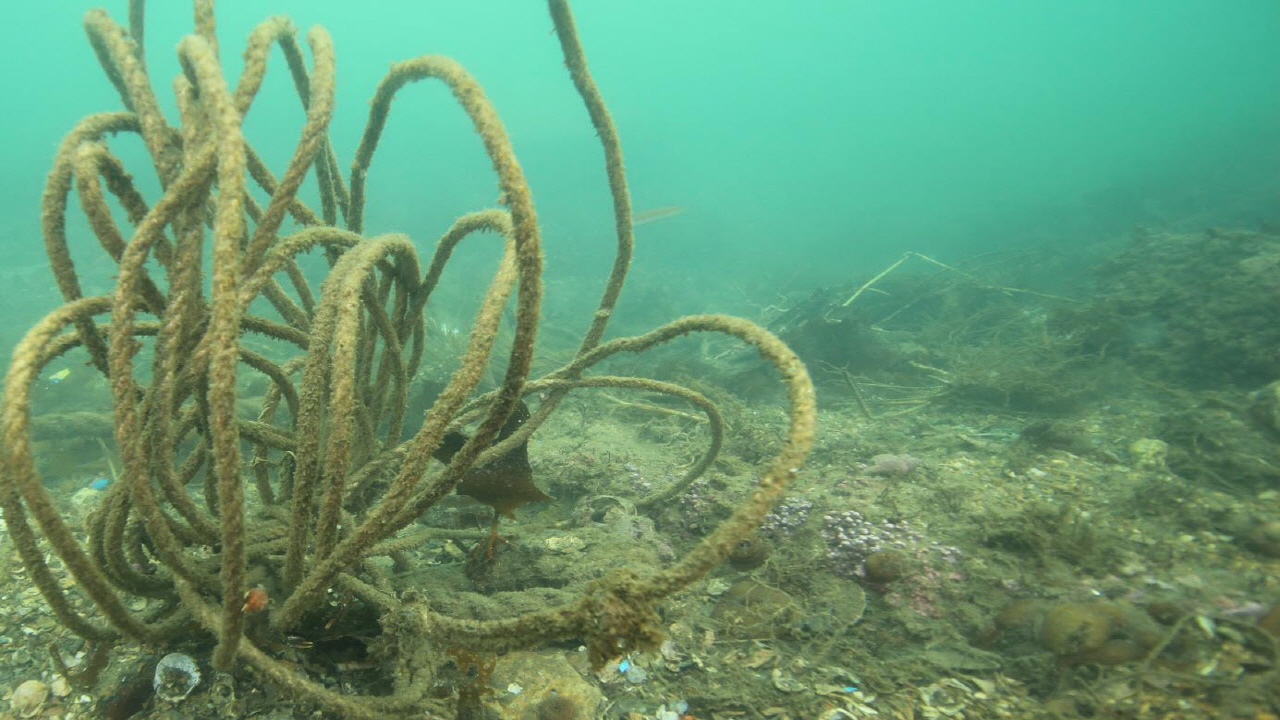bundle of ropes: (0, 0, 823, 720)
